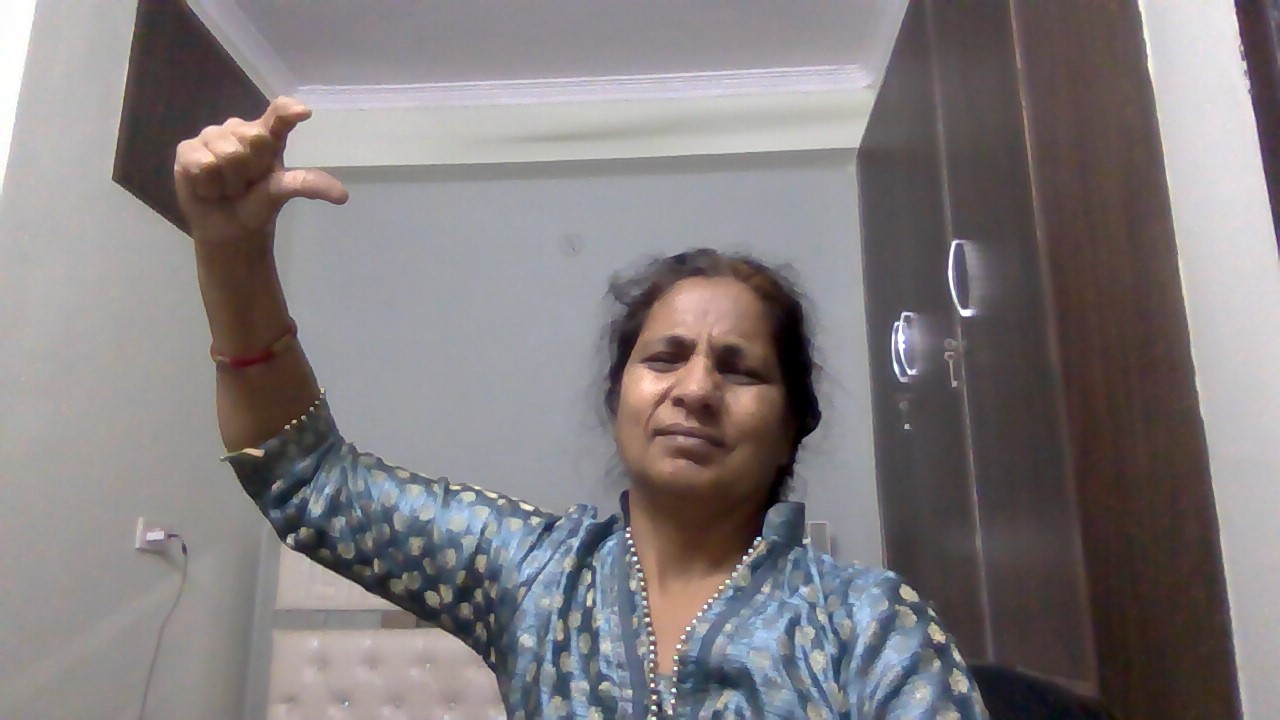Paste: (165, 92, 364, 278)
